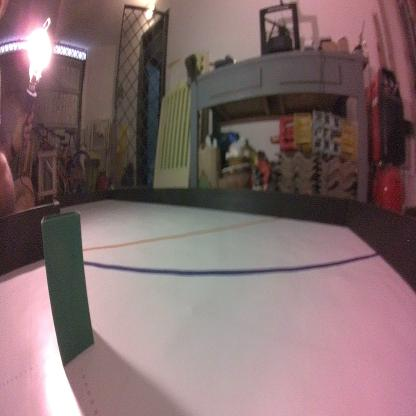green: (40, 209, 95, 366)
